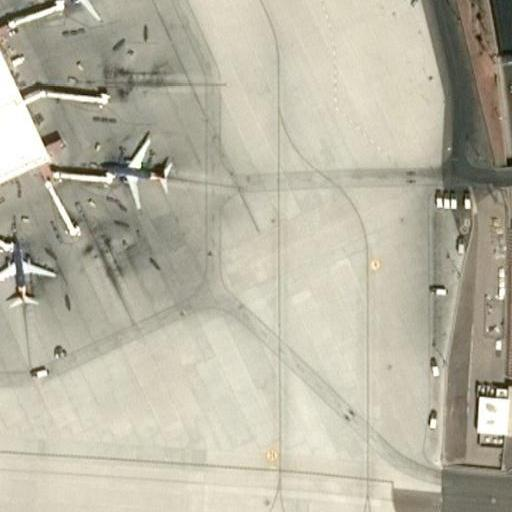Aircraft: (95, 131, 178, 210), (0, 233, 58, 311), (43, 0, 120, 20)
